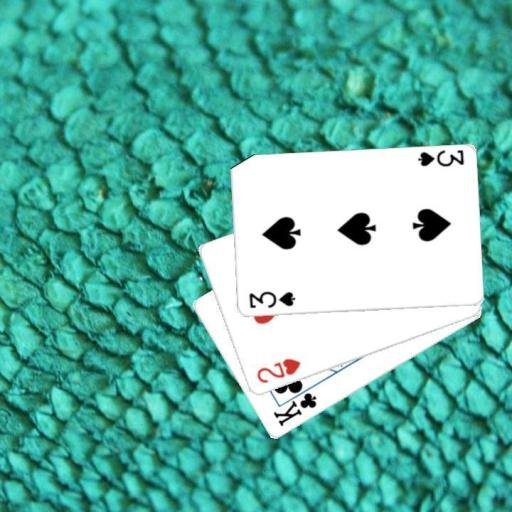2H: (253, 356, 302, 386)
3S: (415, 147, 465, 169), (246, 289, 297, 310)
KC: (269, 381, 318, 428)
